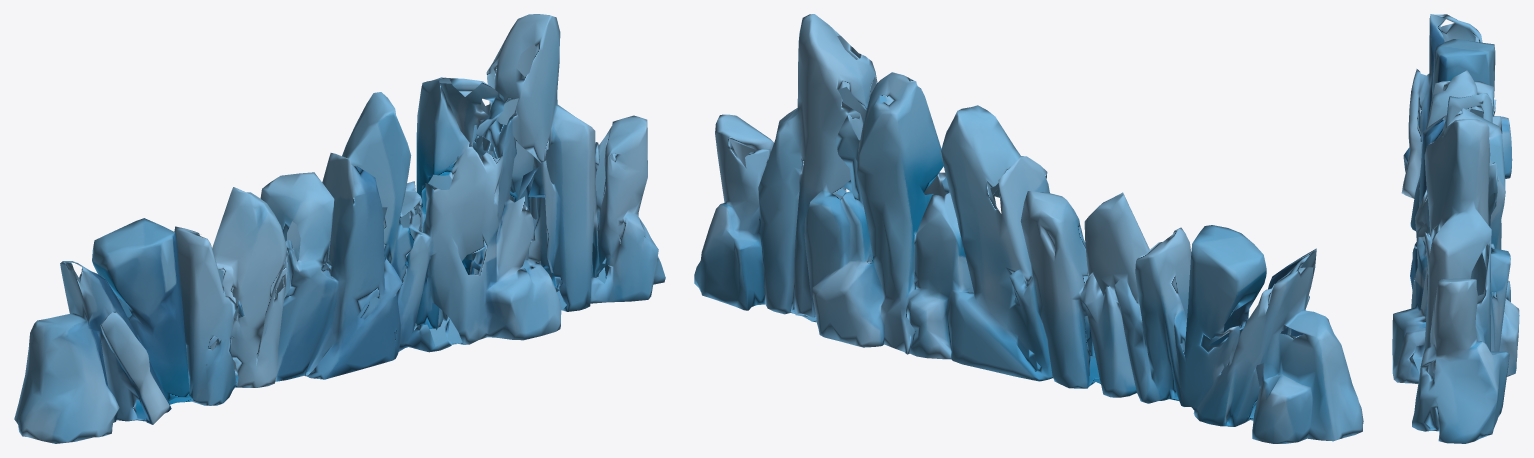
Rendered from led-greben.glb.
The picture shows the model from 3 angles, left to right: view 1: azimuth 30°, elevation 25°; view 2: azimuth 150°, elevation 25°; view 3: azimuth 270°, elevation 25°; orthographic projection. The views are drawn at different scales.
Visible parts, largest first — view 1: geometry_0; view 2: geometry_0; view 3: geometry_0.
Boxes of the visible parts, <box> form: geometry_0: <box>14,14,665,443</box>; geometry_0: <box>694,14,1363,443</box>; geometry_0: <box>1392,14,1519,443</box>.
Size of the model in its own units: 1 by 0.422 by 0.1787.
1 material, 1 textured.
